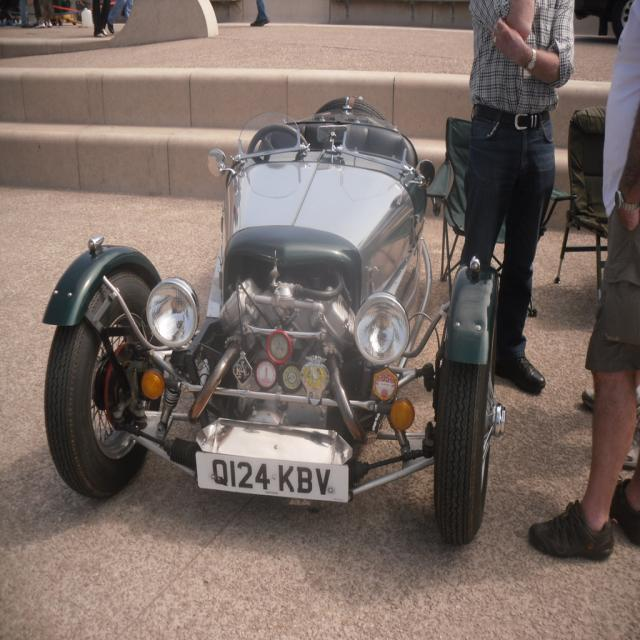car: (36, 92, 510, 549)
